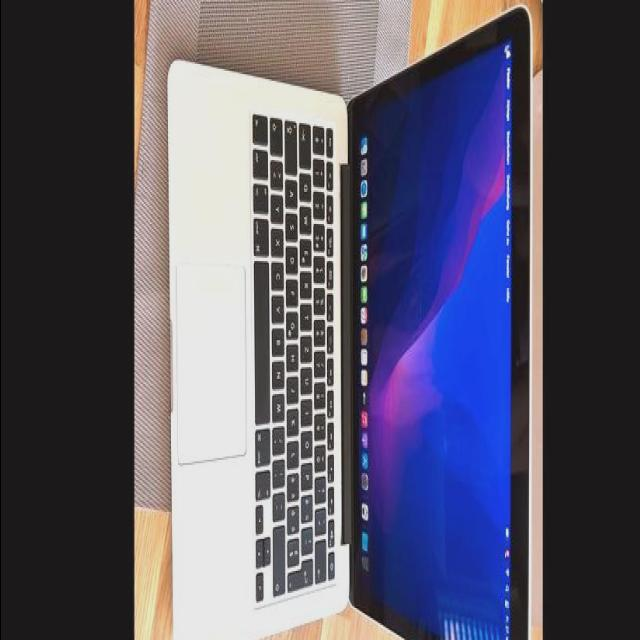0: (316, 442, 328, 470)
1: (315, 154, 327, 184)
2: (315, 186, 327, 216)
3: (315, 219, 327, 249)
4: (315, 251, 327, 281)
5: (315, 283, 327, 313)
6: (316, 316, 328, 344)
7: (316, 348, 328, 376)
8: (316, 380, 328, 408)
9: (316, 410, 328, 440)
a: (287, 176, 300, 206)
accent: (316, 504, 328, 532)
ae: (289, 501, 302, 531)
alt-left: (254, 213, 271, 255)
altgr-right: (256, 423, 272, 463)
b: (274, 324, 287, 354)
c: (273, 258, 287, 286)
caret: (315, 122, 327, 150)
comma: (274, 421, 288, 451)
d: (288, 241, 301, 269)
del: (317, 537, 329, 581)
e: (302, 235, 315, 263)
enter: (289, 552, 316, 588)
f: (288, 275, 301, 303)
g: (288, 307, 301, 335)
h: (288, 339, 301, 369)
hash: (289, 532, 302, 564)
i: (303, 395, 315, 423)
j: (288, 371, 302, 399)
k: (289, 403, 302, 433)
keyboard: (250, 103, 342, 610)
l: (289, 437, 302, 467)
less: (272, 157, 285, 187)
m: (275, 390, 288, 418)
minus: (275, 487, 288, 517)
n: (274, 356, 287, 386)
o: (303, 427, 315, 455)
oe: (289, 467, 302, 499)
p: (303, 459, 315, 487)
plus: (302, 523, 315, 553)
point: (275, 453, 288, 485)
q: (301, 169, 314, 197)
r: (302, 267, 315, 295)
s: (287, 208, 300, 238)
shift-left: (271, 113, 285, 151)
shift-lock: (286, 116, 299, 172)
shift-right: (275, 521, 288, 593)
space: (256, 258, 272, 420)
ss: (316, 472, 328, 500)
strg-left: (254, 110, 270, 142)
t: (302, 299, 315, 327)
tab: (301, 118, 314, 165)
u: (303, 363, 315, 391)
ue: (303, 489, 315, 519)
v: (274, 290, 287, 320)
w: (302, 201, 314, 231)
x: (273, 225, 286, 253)
y: (272, 191, 286, 221)
z: (303, 331, 315, 359)
